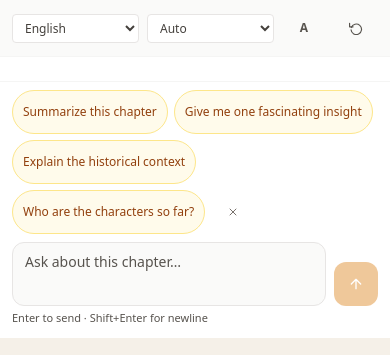
Test case: InsightChat — chatFontSize toggle (lines 262-264) › toggles from xs to sm and shows 'a' (lowercase) after click
Click the button titled "Toggle font size".
click(304, 28)  # box [282, 6, 326, 50]
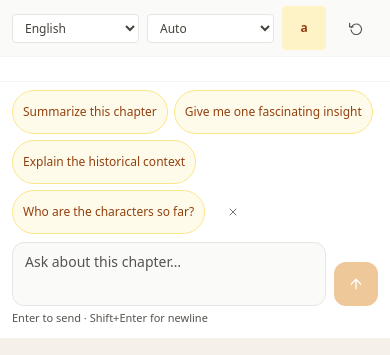
Result: the button titled "Toggle font size" reads "a" at [282, 6, 326, 50]
